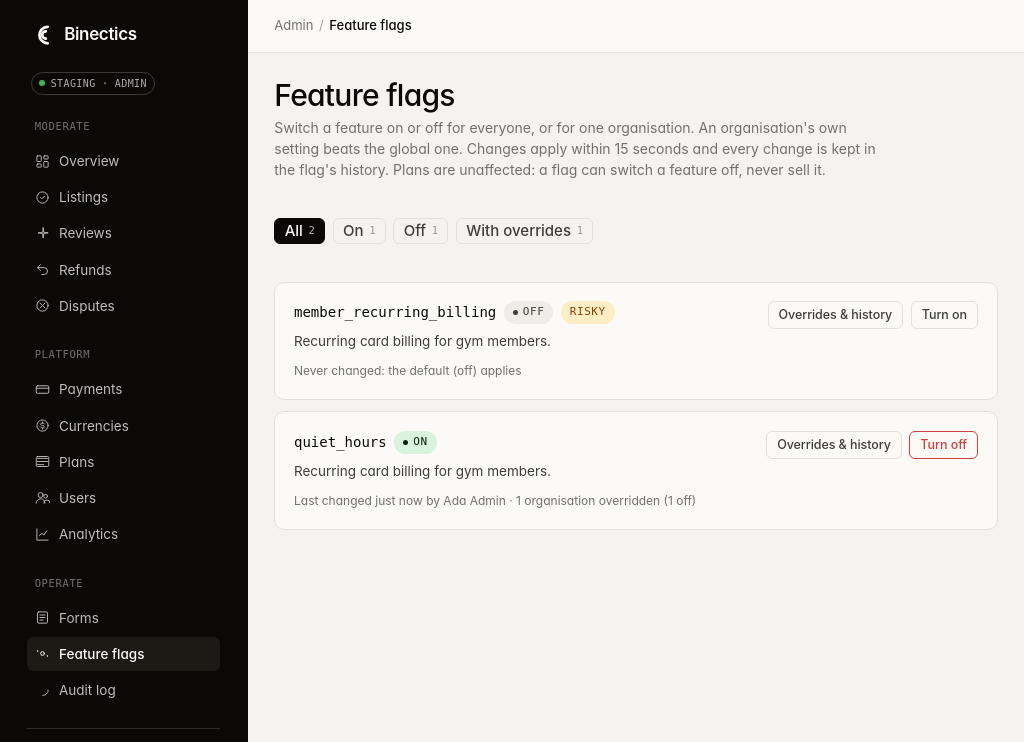
Test: admin feature flags list › lists flags with their state, risk and overrides, and filters
Expected: the number of list items is 2, 274,282 -> 998,400; 274,411 -> 998,530
Expected: the link "member_recurring_billing" is shown, 294,302 -> 496,323
Click the button "Off 1" at (421,231), box 393,218 -> 448,244
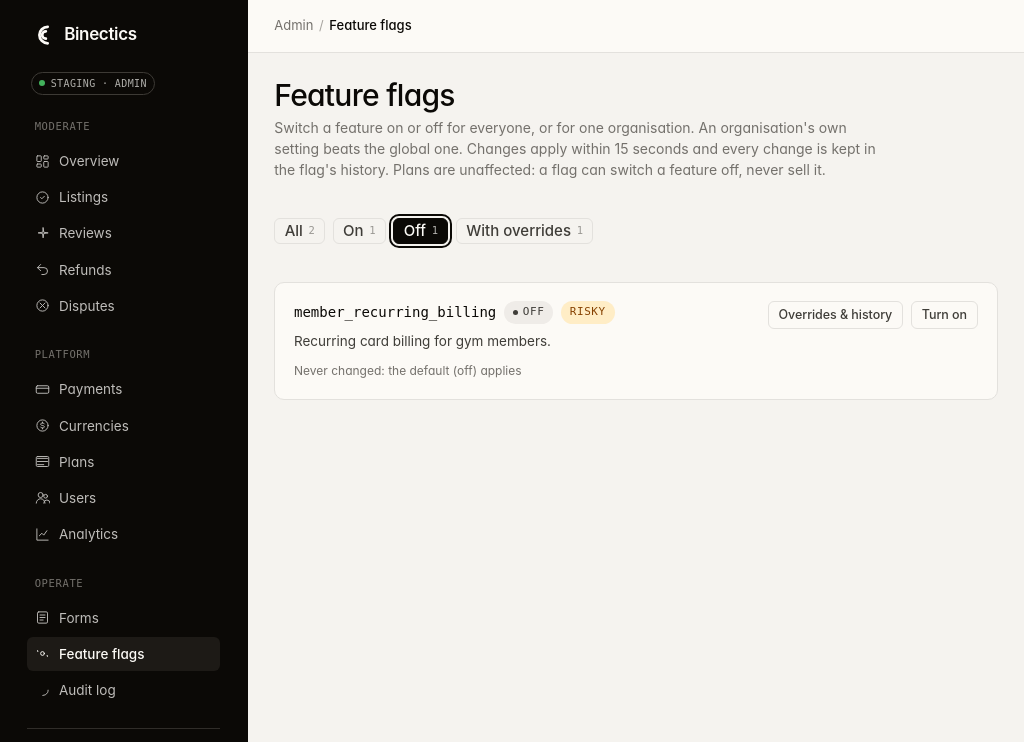
Expected: the number of list items is 1, 274,282 -> 998,400
Click the button "With overrides 1" at (525,231), box 456,218 -> 593,244
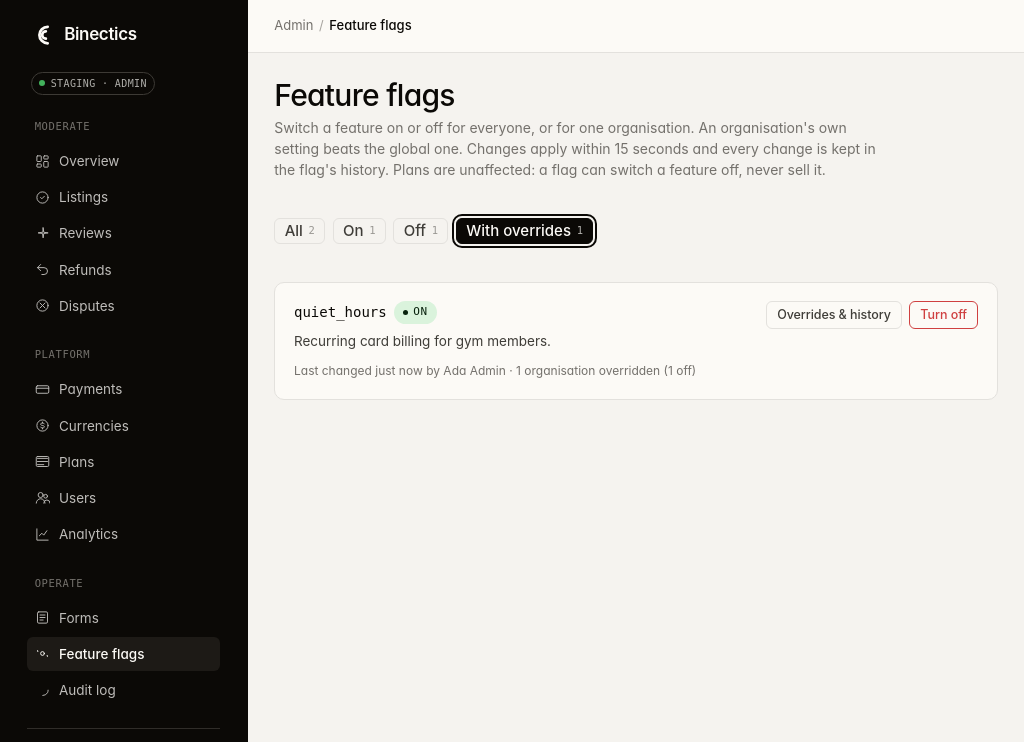
Expected: the link "quiet_hours" is shown, 294,302 -> 387,323
